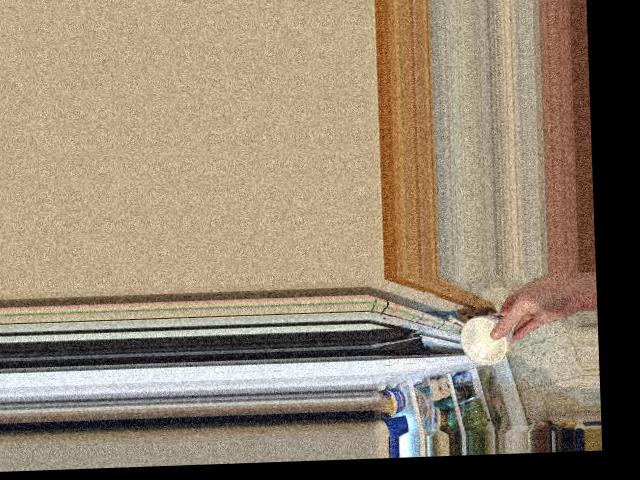cotage: (454, 308, 508, 362)
